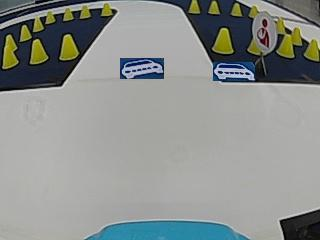cone: (212, 26, 234, 54), (1, 36, 18, 68), (59, 34, 78, 61), (29, 39, 48, 64), (277, 35, 294, 58), (304, 38, 319, 60), (20, 24, 32, 40), (62, 7, 74, 21), (79, 5, 91, 19), (33, 17, 45, 31), (188, 1, 200, 14), (230, 3, 242, 16), (208, 1, 220, 14), (100, 3, 112, 16), (276, 16, 285, 33), (45, 10, 56, 23), (248, 5, 259, 17)
patient: (256, 12, 275, 49)
